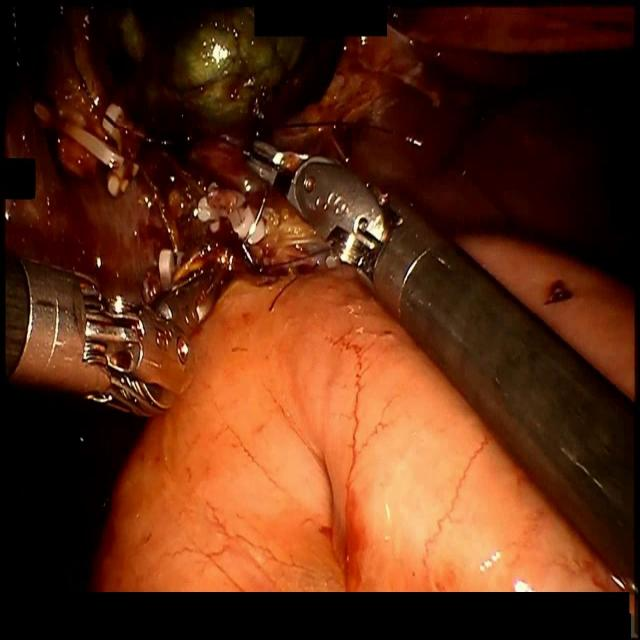surgical-area: (0, 0, 640, 589)
surgical-tool: (249, 137, 636, 588), (0, 257, 212, 421)
